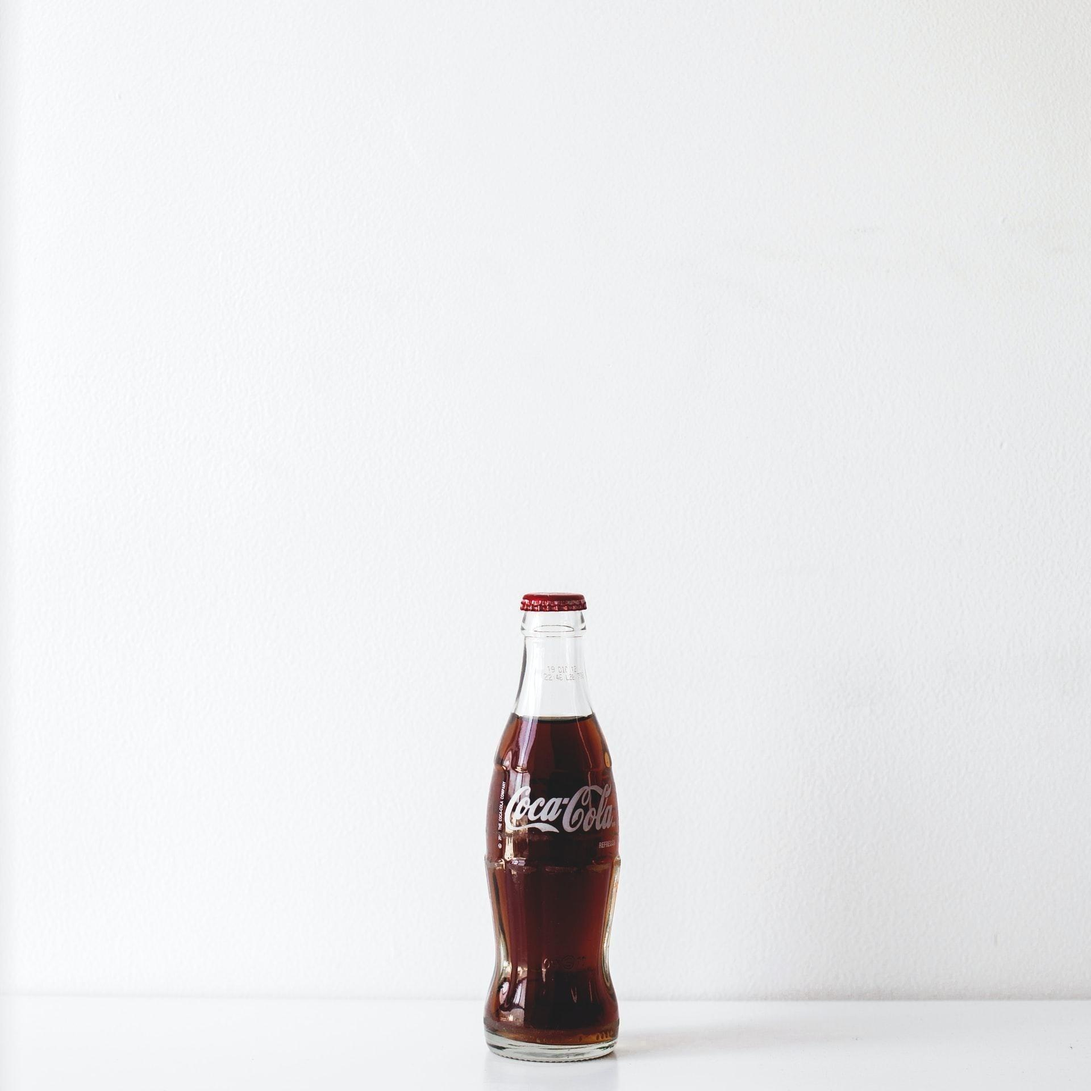bottle-glass: (477, 584, 628, 1075)
